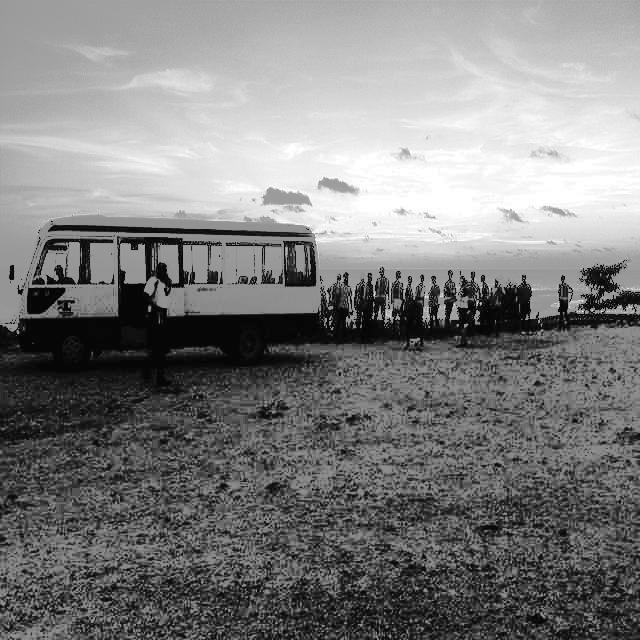Bus: (17, 193, 357, 371)
